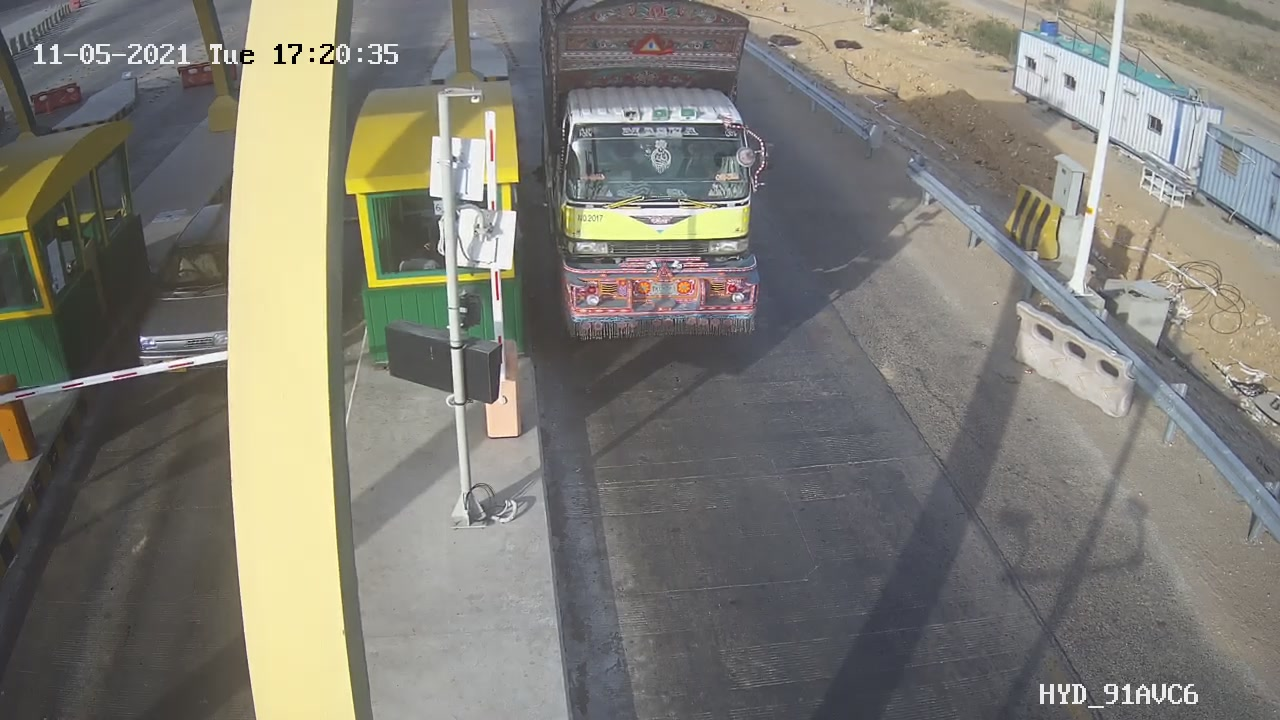F6: (520, 1, 798, 368)
